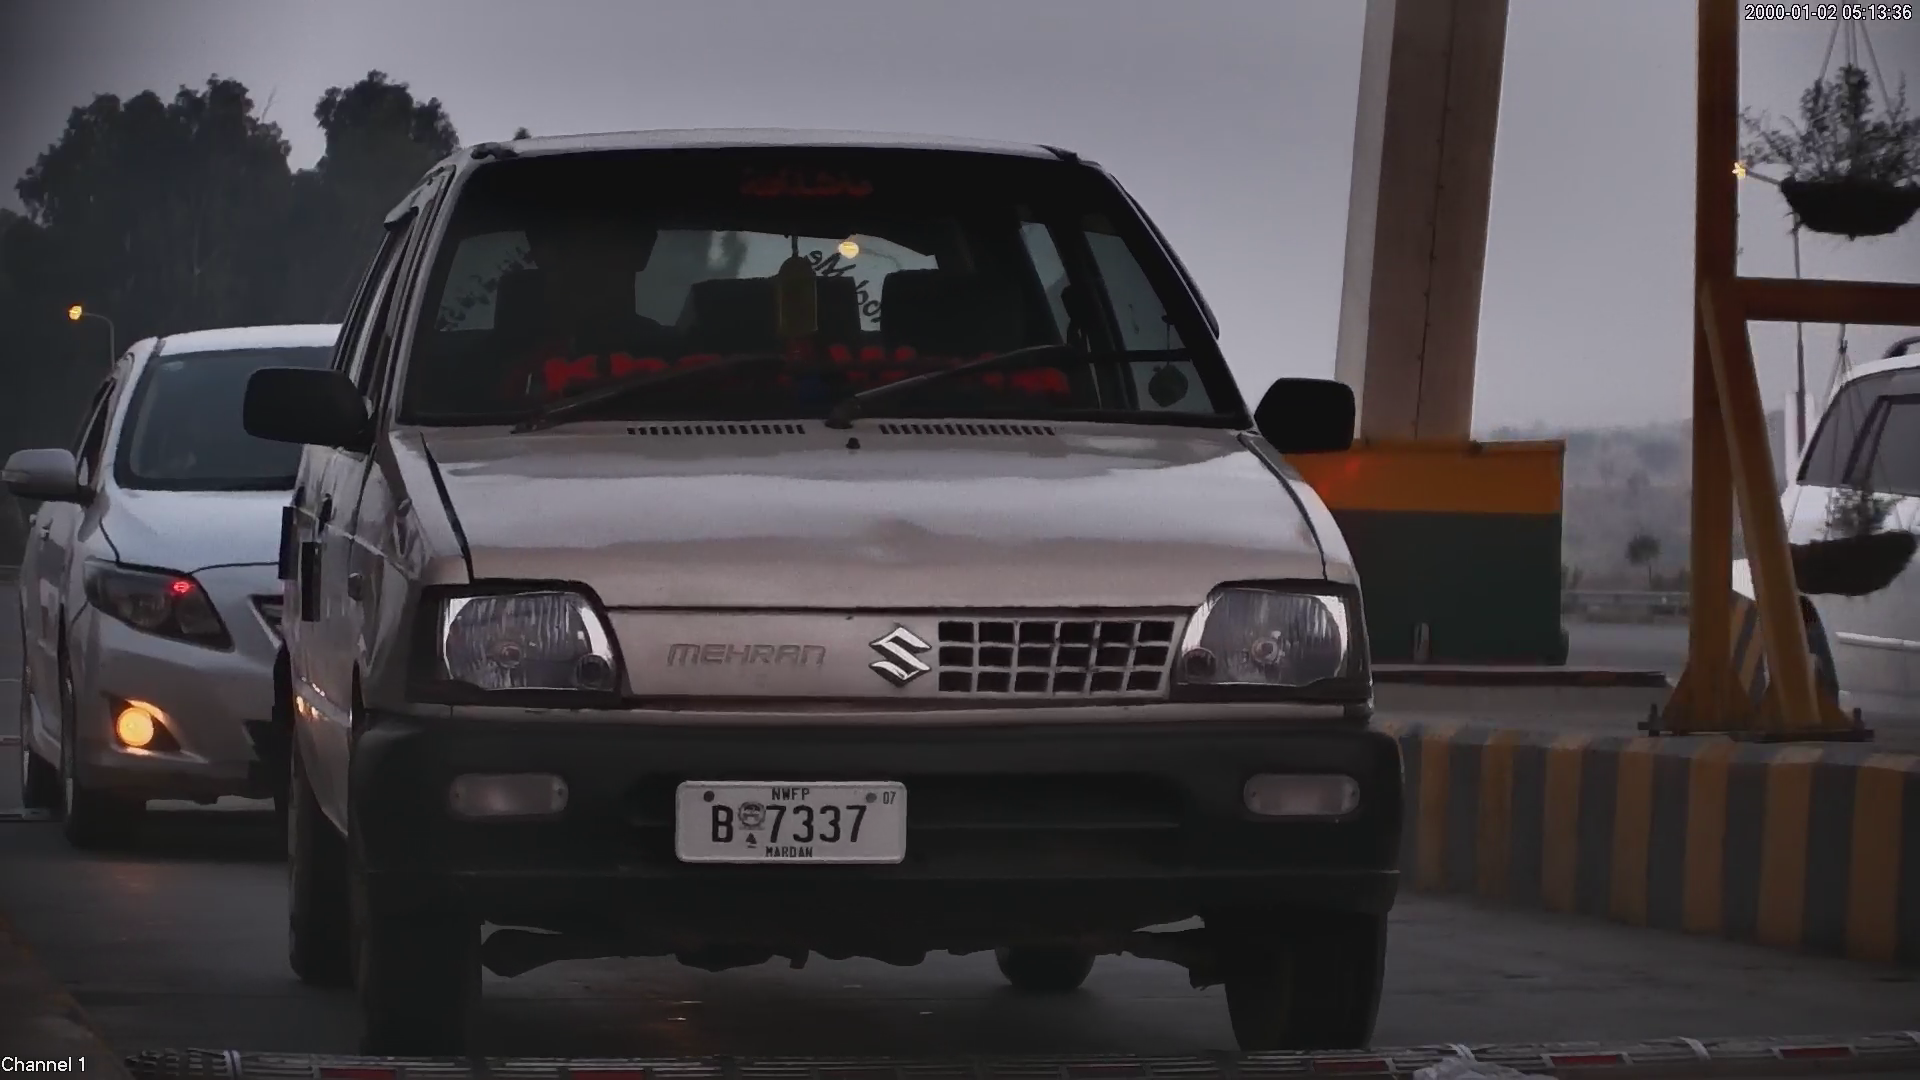Number_Plate: (666, 767, 922, 881)
